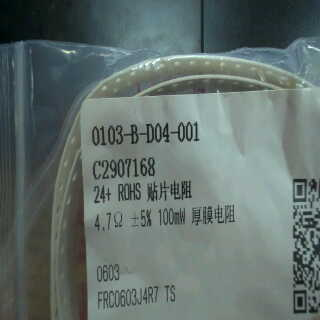4.7R: (93, 209, 128, 233)
